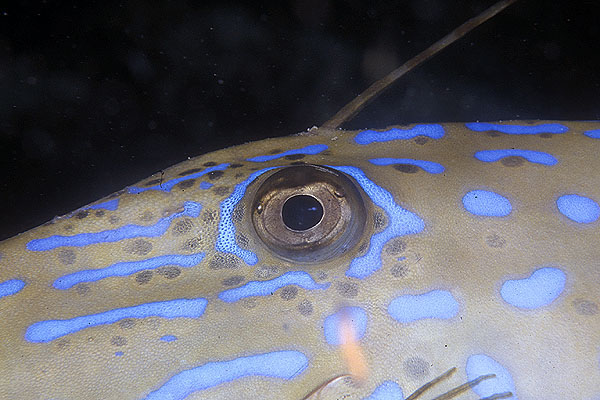Aluterus_scriptus: (2, 1, 600, 396)
